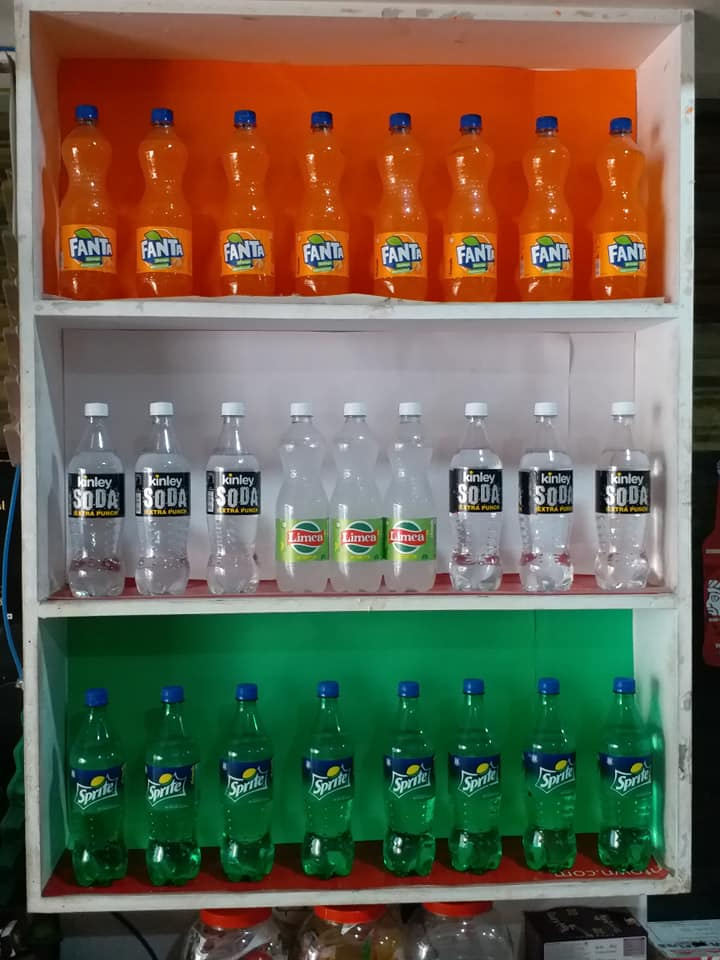fanta: (67, 235, 114, 260), (603, 241, 647, 265), (529, 243, 573, 266), (222, 241, 268, 262), (139, 240, 187, 260), (380, 243, 424, 264), (302, 243, 346, 263), (455, 244, 496, 265)
kinley: (217, 472, 255, 489), (608, 471, 646, 488), (73, 475, 115, 490), (146, 474, 183, 490), (462, 469, 498, 484), (540, 473, 573, 487)
limca: (286, 528, 327, 547), (340, 529, 380, 546), (389, 528, 426, 546)
sprite: (388, 767, 430, 797), (147, 777, 188, 806), (73, 780, 115, 806), (228, 774, 268, 800), (311, 772, 351, 798), (614, 770, 652, 795), (461, 769, 499, 793), (538, 767, 574, 792)
